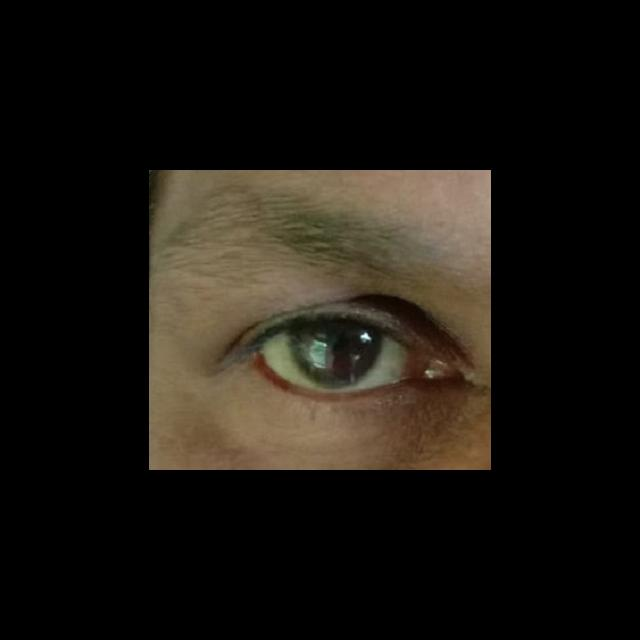eye: (258, 320, 408, 395)
iris: (289, 324, 384, 388)
